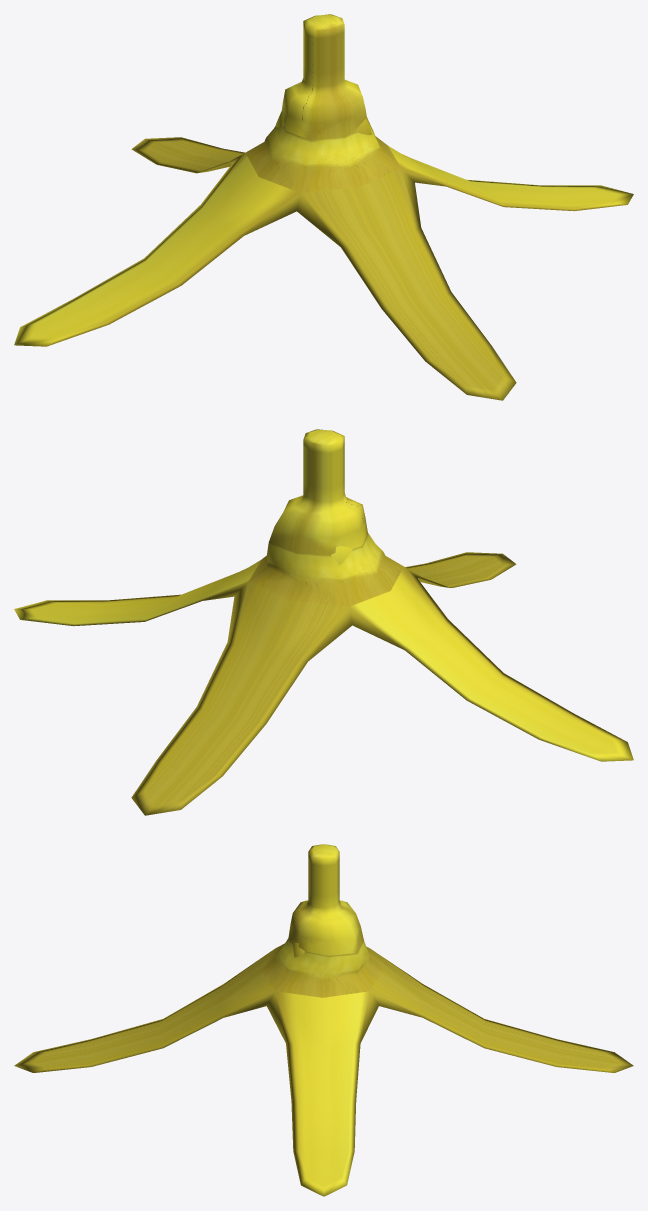
File: banana.FBX
3 views of the same model, one above another, from view 1: azimuth 30°, elevation 25°; view 2: azimuth 150°, elevation 25°; view 3: azimuth 270°, elevation 25° (orthographic). The views are drawn at different scales.
Parts seen in each view (by area): view 1: Box001; view 2: Box001; view 3: Box001.
Part boxes in pixels (x1,y1,x2,y2): Box001: (14,14,633,400); Box001: (14,429,633,815); Box001: (14,844,633,1196).
Size of the model in its own units: 27.71 by 27.71 by 10.68.
Materials: 1 (1 with a texture image).
